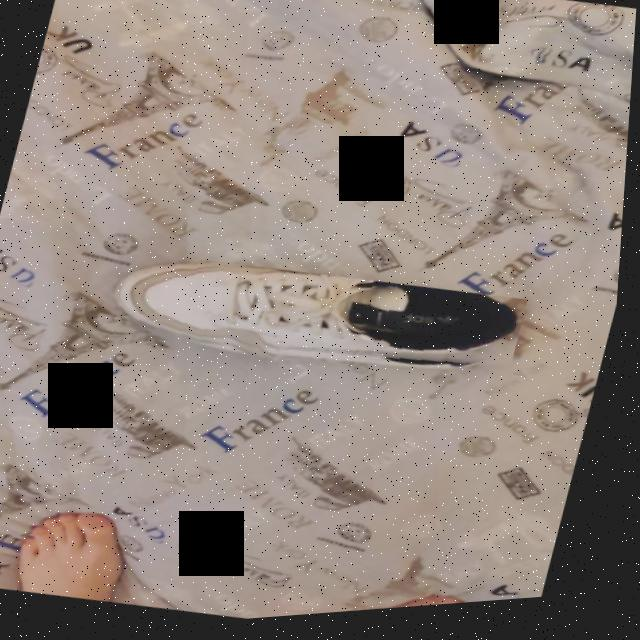shoe: (102, 229, 537, 418)
